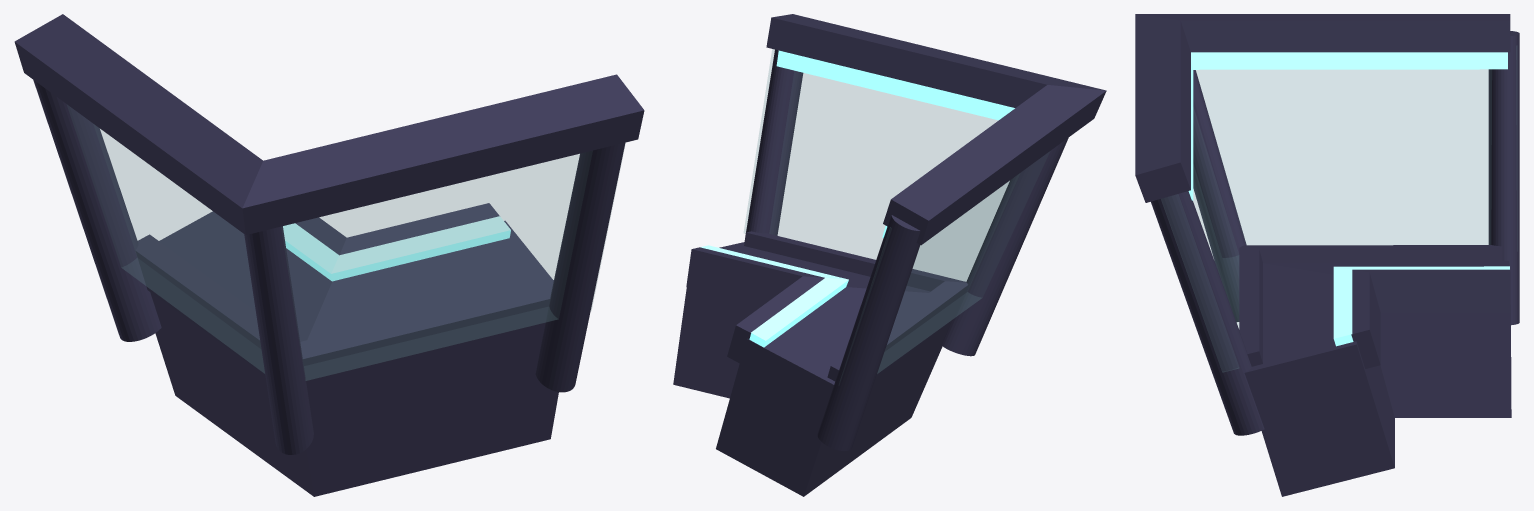
The model's file is Railing_InnerCorner.fbx.
The picture shows the model from 3 angles, left to right: view 1: azimuth 30°, elevation 25°; view 2: azimuth 150°, elevation 25°; view 3: azimuth 270°, elevation 25°; orthographic projection. The views are drawn at different scales.
Visible parts, largest first — view 1: Cube.024, Cube.007, Cube.025, Cube.022, Cylinder.016, Cylinder.011, Cylinder.019, Cube.008, Cube.023; view 2: Cube.024, Cube.007, Cube.025, Cylinder.016, Cylinder.019, Cube.022, Cube.023, Cylinder.011, Cube.026, Cube.008; view 3: Cube.024, Cube.007, Cube.025, Cylinder.011, Cube.023, Cube.022, Cylinder.016, Cube.026, Cylinder.019, Cube.008.
Boxes of the visible parts, x1,y1,x2,y2 form: Cube.024: (93,124,619,380); Cube.007: (150,211,558,496); Cube.025: (14,14,644,234); Cube.022: (135,234,553,393); Cylinder.016: (33,80,161,341); Cylinder.011: (535,142,625,392); Cylinder.019: (244,226,313,454); Cube.008: (283,216,510,281); Cube.023: (295,203,499,255); Cube.024: (744,49,1020,380); Cube.007: (673,242,951,496); Cube.025: (766,14,1106,245); Cylinder.016: (817,215,920,451); Cylinder.019: (941,138,1068,356); Cube.022: (744,231,967,381); Cube.023: (686,247,824,363); Cylinder.011: (746,49,803,235); Cube.026: (776,50,1014,238); Cube.008: (700,245,848,347); Cube.024: (1161,69,1488,371); Cube.007: (1244,261,1511,496); Cube.025: (1135,14,1510,202); Cylinder.011: (1151,191,1264,435); Cube.023: (1351,269,1510,368); Cube.022: (1239,245,1502,366); Cylinder.016: (1488,31,1519,325); Cube.026: (1188,52,1507,200); Cylinder.019: (1193,70,1246,322); Cube.008: (1333,266,1509,346).
Bounding box in the file's own units: 225 × 219 × 227.
